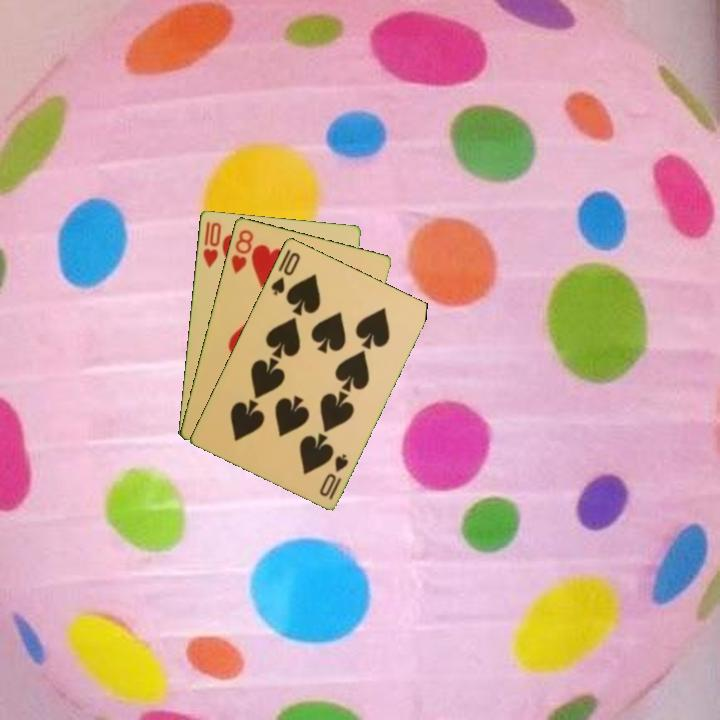10h: (199, 218, 224, 270)
10s: (315, 450, 351, 502), (267, 248, 303, 298)
8h: (227, 226, 256, 277)
